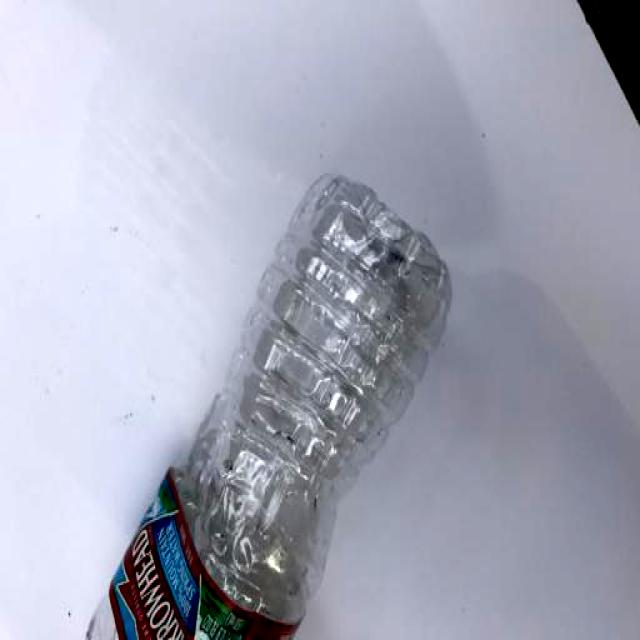Plastic: (76, 149, 476, 640)
